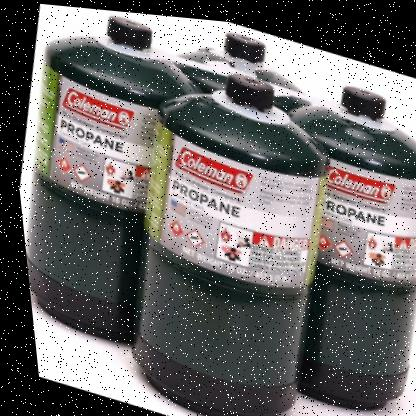gas-tank: (91, 42, 367, 415), (0, 0, 225, 378), (217, 46, 415, 415)
